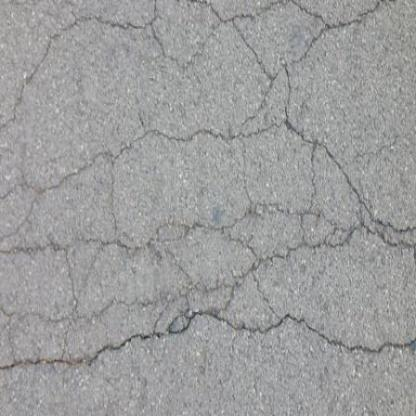Cracks: (3, 108, 364, 225), (0, 304, 416, 382), (128, 0, 415, 110), (246, 100, 416, 277), (122, 198, 312, 330), (0, 5, 168, 110), (0, 219, 167, 319)
